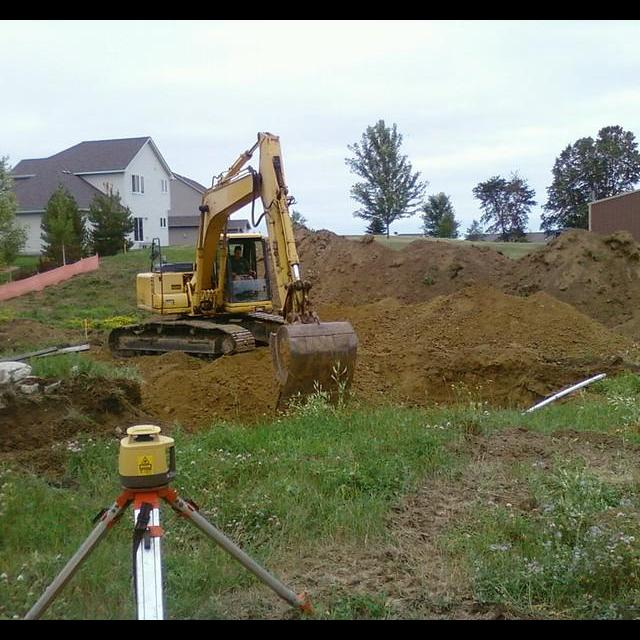Excavator: (109, 131, 359, 410)
Hardhat: (234, 245, 242, 250)
NO-Mask: (235, 253, 242, 258)
NO-Safety Vest: (231, 258, 248, 274)
Person: (229, 246, 257, 279)
